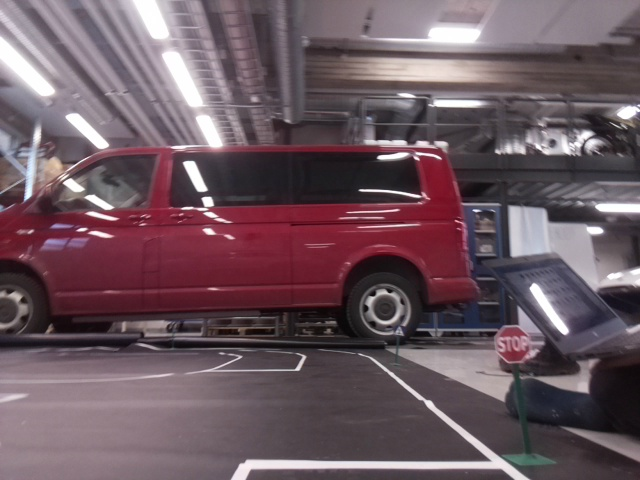Crosswalk: (395, 325, 404, 336)
Stop: (494, 326, 529, 363)
